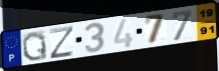3: (83, 21, 108, 54)
4: (113, 18, 135, 49)
7: (143, 12, 168, 46), (171, 9, 195, 42)
Q: (21, 30, 49, 62)
Z: (48, 24, 76, 60)
